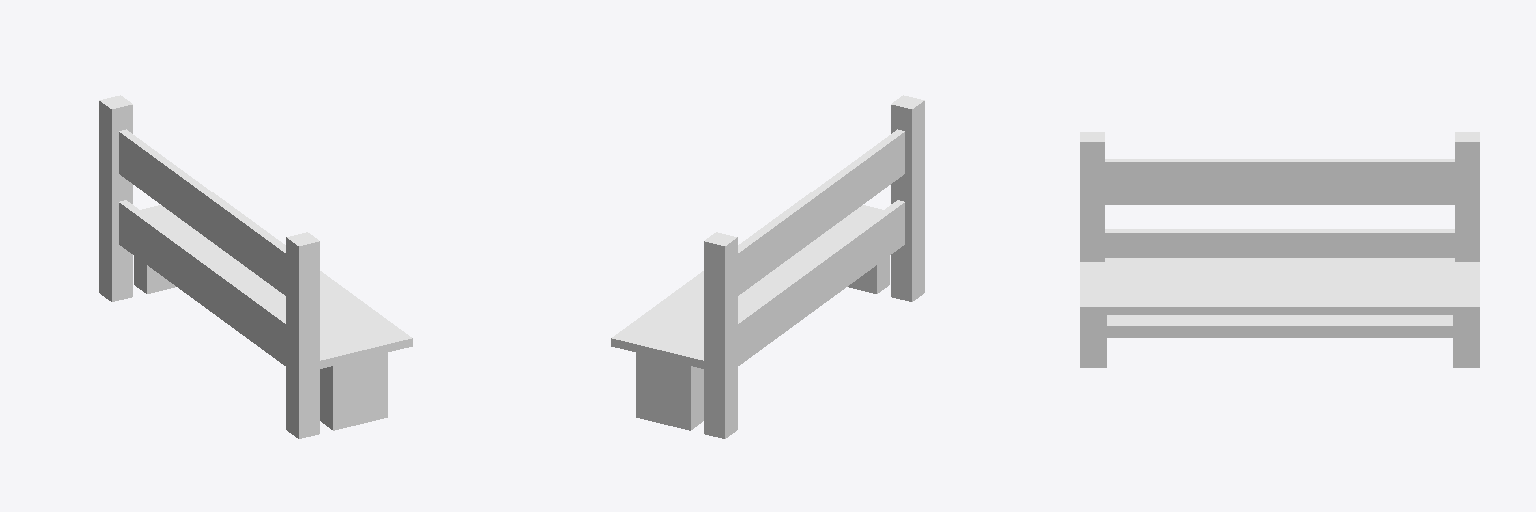
Rendered from Bench.obj.
3 views of the same model, side by side, from view 1: azimuth 30°, elevation 25°; view 2: azimuth 150°, elevation 25°; view 3: azimuth 270°, elevation 25° (orthographic).
Size of the model in its own units: 0.3294 by 0.533 by 1.